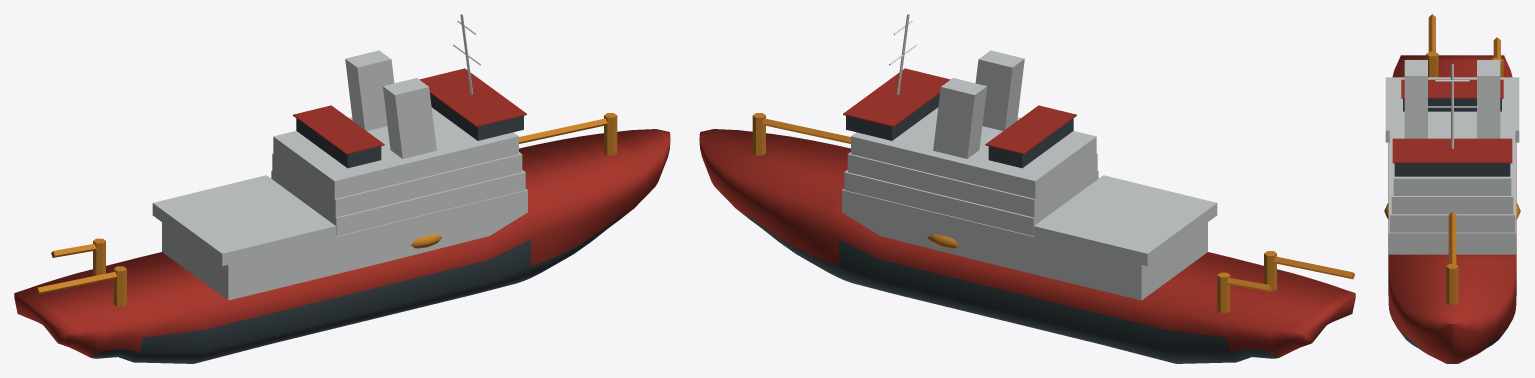
Rendered from xue-long-2-ship-proxy.glb.
3 renders of one model, left to right at view 1: azimuth 30°, elevation 25°; view 2: azimuth 150°, elevation 25°; view 3: azimuth 270°, elevation 25°, orthographic. The views are drawn at different scales.
Visible parts, largest first — view 1: ShipProxy; view 2: ShipProxy; view 3: ShipProxy.
Part boxes in pixels (box(x1,y1,x2,y2)): ShipProxy: box(14, 14, 670, 363); ShipProxy: box(699, 14, 1355, 363); ShipProxy: box(1384, 14, 1520, 363).
Size of the model in its own units: 124 by 48.58 by 23.8.
